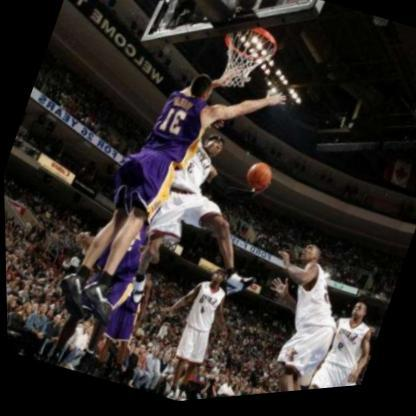basketball: (241, 162, 274, 199)
rim: (206, 19, 282, 106)
